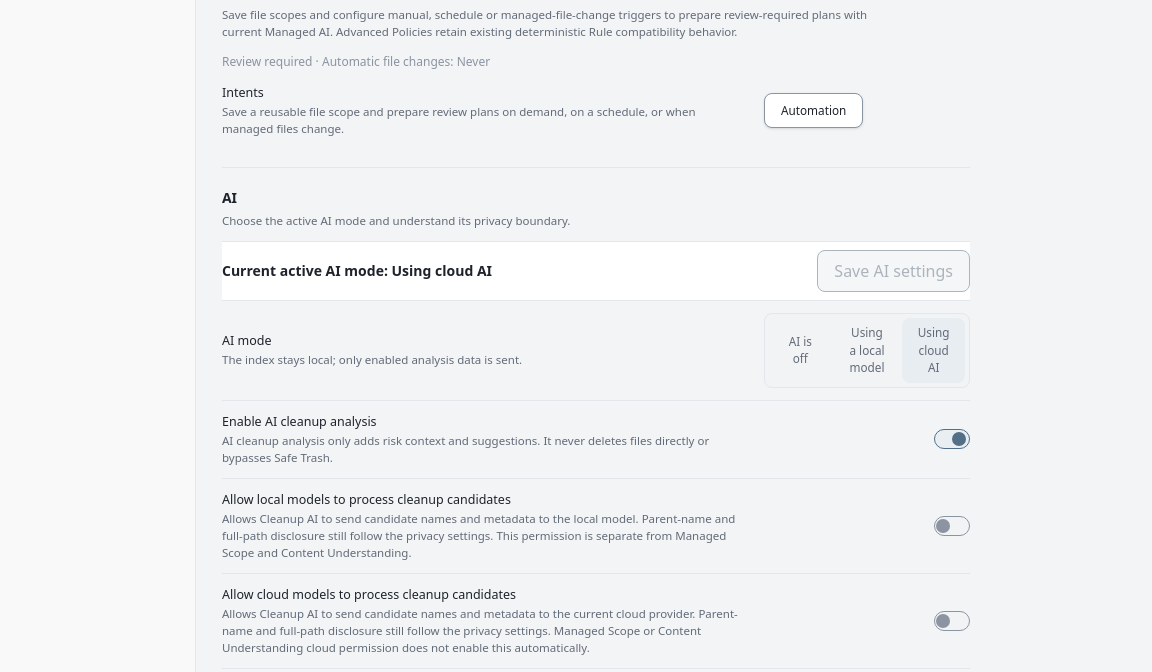
Test case: settings view behavior › publishes runtime only after save success and clears the dirty draft
(page scrolled)
What coordinates should you click on to do the following:
click the radio button labelled "AI is off"
I would click on:
 (800, 350)
Its box is [769,318,832,383].
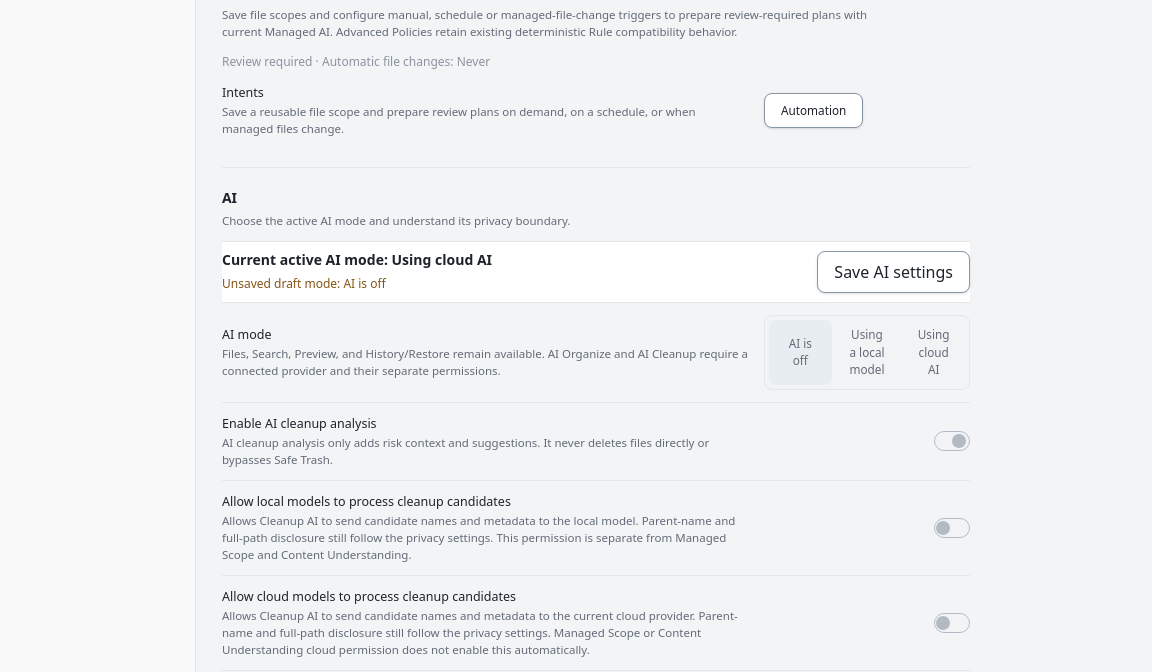
What coordinates should you click on to do the following:
click the button "Save AI settings"
I would click on:
 (894, 272)
Its box is [817,251,970,293].
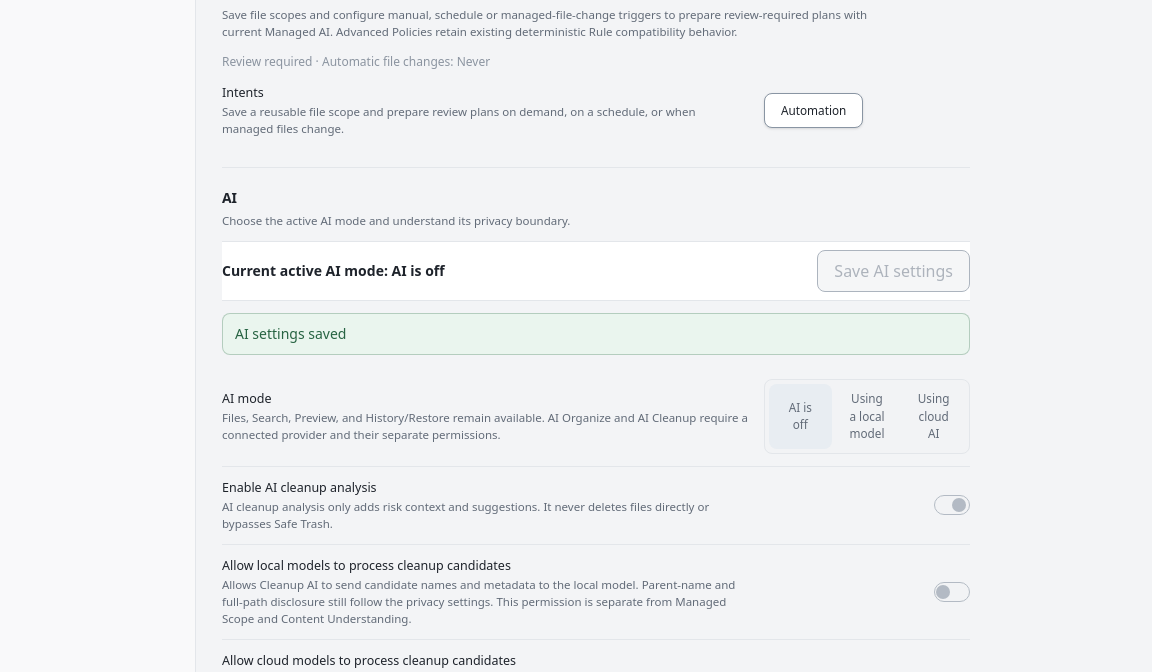
Expected: the button "Save AI settings" is disabled, [817,250,970,292]
Expected: the message "AI settings saved" is shown, [222,313,970,355]
Expected: the number of messages is 1, [222,313,970,355]
